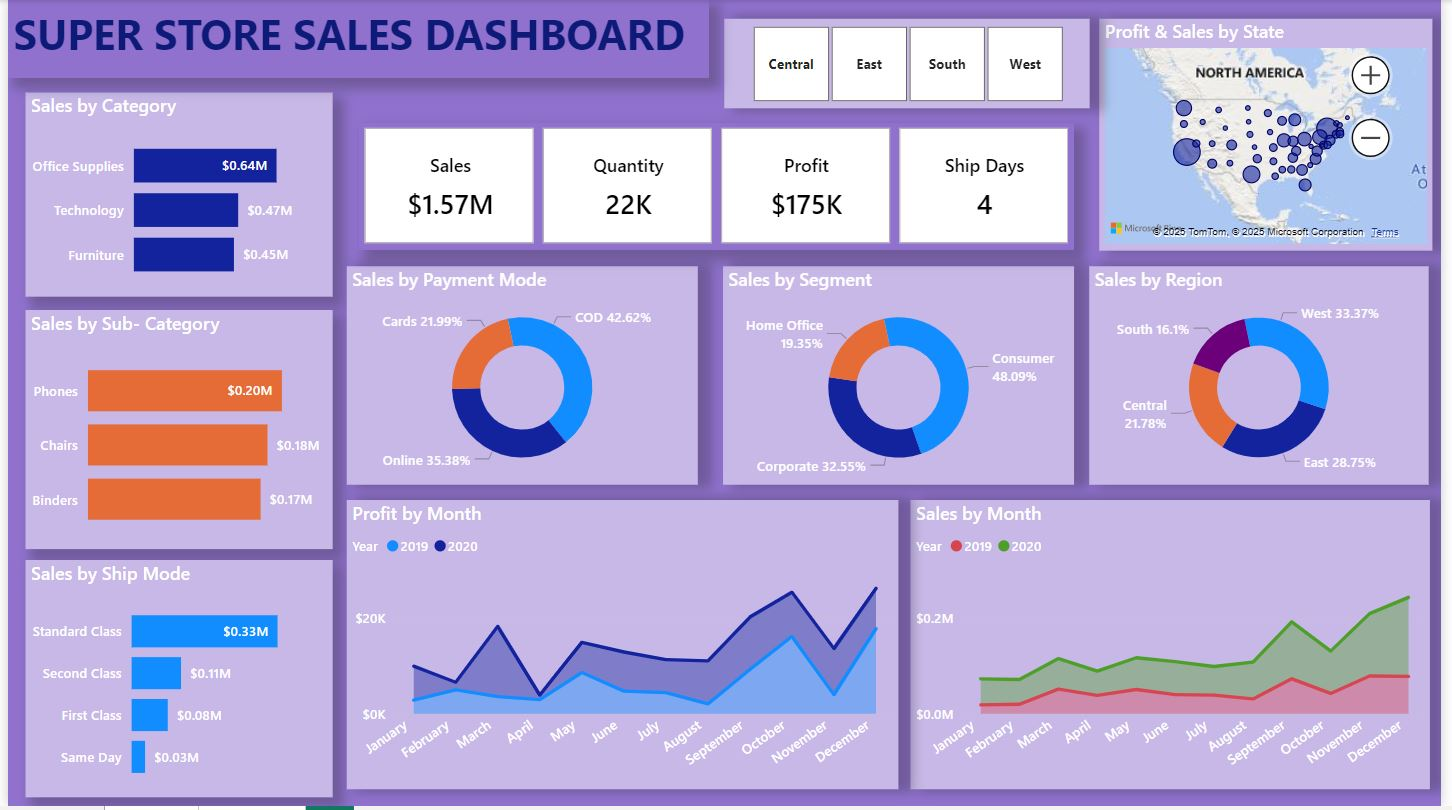

What the dashboard file says about the page in this screenshot:
{"tool":"powerbi","page":{"name":"Page 1","canvas":[1280,720],"ordinal":0},"visuals":[{"type":"clusteredBarChart","title":"Sales by Category","fields":{"Category":["SuperStore_Sales_Dataset.Category"],"Y":["Sum(SuperStore_Sales_Dataset.Sales)"]},"box":[15.1,82.6,274.4,182.6],"z":0},{"type":"clusteredBarChart","title":"Sales by Sub- Category","fields":{"Y":["Sum(SuperStore_Sales_Dataset.Sales)"],"Category":["SuperStore_Sales_Dataset.Sub-Category"]},"box":[15.1,276.7,274.4,214],"z":1000},{"type":"clusteredBarChart","title":"Sales by Ship Mode","fields":{"Y":["Sum(SuperStore_Sales_Dataset.Sales)"],"Category":["SuperStore_Sales_Dataset.Ship Mode"]},"box":[15.1,500,274.4,211.6],"z":2000},{"type":"stackedAreaChart","title":"Sales by Month","fields":{"Category":["SuperStore_Sales_Dataset.Order Date.Variation.Date Hierarchy.Month","SuperStore_Sales_Dataset.Order Date.Variation.Date Hierarchy.Day"],"Y":["Sum(SuperStore_Sales_Dataset.Sales)"],"Series":["SuperStore_Sales_Dataset.Order Date.Variation.Date Hierarchy.Year"]},"box":[805.8,446.5,464,258.1],"z":3000},{"type":"stackedAreaChart","title":"Profit by Month","fields":{"Category":["SuperStore_Sales_Dataset.Order Date.Variation.Date Hierarchy.Month","SuperStore_Sales_Dataset.Order Date.Variation.Date Hierarchy.Day"],"Series":["SuperStore_Sales_Dataset.Order Date.Variation.Date Hierarchy.Year"],"Y":["Sum(SuperStore_Sales_Dataset.Profit)"]},"box":[302.3,446.5,493,258.1],"z":4000},{"type":"map","title":"Profit & Sales by State","fields":{"Category":["SuperStore_Sales_Dataset.State"],"Size":["Sum(SuperStore_Sales_Dataset.Sales)"]},"box":[974.4,16.3,297.7,207],"z":5000},{"type":"donutChart","title":"Sales by Segment","fields":{"Category":["SuperStore_Sales_Dataset.Segment"],"Y":["Sum(SuperStore_Sales_Dataset.Sales)"]},"box":[638.4,238.4,314,195.3],"z":6000},{"type":"donutChart","title":"Sales by Payment Mode","fields":{"Y":["Sum(SuperStore_Sales_Dataset.Sales)"],"Category":["SuperStore_Sales_Dataset.Payment Mode"]},"box":[302.3,238.4,314,195.3],"z":7000},{"type":"slicer","fields":{"Values":["SuperStore_Sales_Dataset.Region"]},"box":[639.5,16.3,326.7,80.2],"z":8000},{"type":"textbox","box":[0,0,626.7,69.8],"z":9000},{"type":"cardVisual","fields":{"Data":["Sum(SuperStore_Sales_Dataset.Sales)","Sum(SuperStore_Sales_Dataset.Quantity)","Sum(SuperStore_Sales_Dataset.Profit)","Avg(SuperStore_Sales_Dataset.AvgDelivery)"]},"box":[314,109.3,638.4,114],"z":10000},{"type":"donutChart","title":"Sales by Region","fields":{"Y":["Sum(SuperStore_Sales_Dataset.Sales)"],"Category":["SuperStore_Sales_Dataset.Region"]},"box":[966.3,238.4,303.5,195.3],"z":11000}]}

Visuals, with their boxes in screenshot pixels (x1, y1, x2, y2), scaled from the page's 1280x720 canvas onto the 1452x810 screenshot:
"Sales by Category" clusteredBarChart: x1=17, y1=93, x2=328, y2=298
"Sales by Sub- Category" clusteredBarChart: x1=17, y1=311, x2=328, y2=552
"Sales by Ship Mode" clusteredBarChart: x1=17, y1=562, x2=328, y2=801
"Sales by Month" stackedAreaChart: x1=914, y1=502, x2=1440, y2=793
"Profit by Month" stackedAreaChart: x1=343, y1=502, x2=902, y2=793
"Profit & Sales by State" map: x1=1105, y1=18, x2=1443, y2=251
"Sales by Segment" donutChart: x1=724, y1=268, x2=1080, y2=488
"Sales by Payment Mode" donutChart: x1=343, y1=268, x2=699, y2=488
slicer - SuperStore_Sales_Dataset.Region: x1=725, y1=18, x2=1096, y2=109
textbox: x1=0, y1=0, x2=711, y2=79
cardVisual - Sum(SuperStore_Sales_Dataset.Sales) x Sum(SuperStore_Sales_Dataset.Quantity): x1=356, y1=123, x2=1080, y2=251
"Sales by Region" donutChart: x1=1096, y1=268, x2=1440, y2=488
